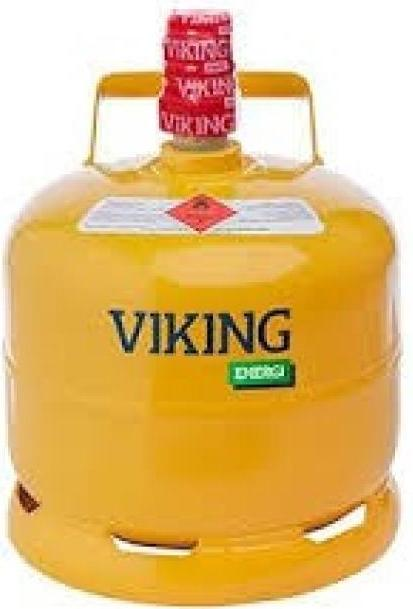cylinder: (1, 1, 413, 609)
